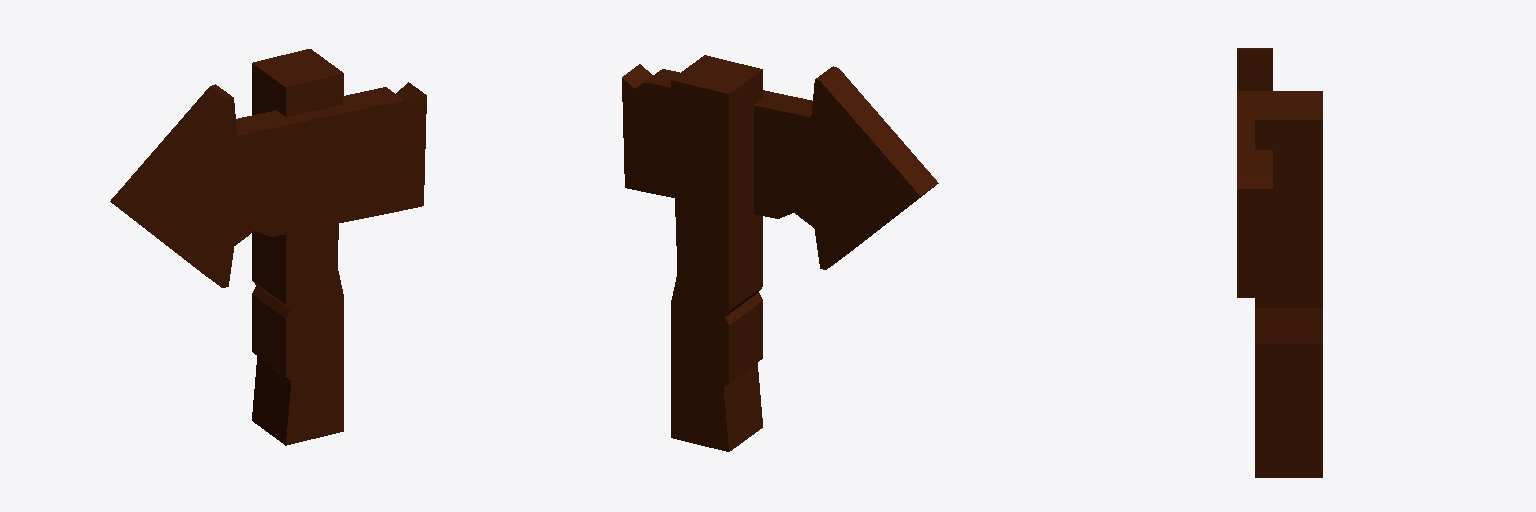
The model's file is Sign_Left_Cube.obj.
3 views of the same model, side by side, from view 1: azimuth 30°, elevation 25°; view 2: azimuth 150°, elevation 25°; view 3: azimuth 270°, elevation 25° (orthographic).
Parts seen in each view (by area): view 1: Sign_Left_Cube.011; view 2: Sign_Left_Cube.011; view 3: Sign_Left_Cube.011.
Part boxes in pixels (x1,y1,x2,y2): Sign_Left_Cube.011: (110, 49, 426, 445); Sign_Left_Cube.011: (622, 55, 938, 451); Sign_Left_Cube.011: (1237, 48, 1322, 477).
Bounding box in the file's own units: 1.1 × 1.3 × 0.2746.